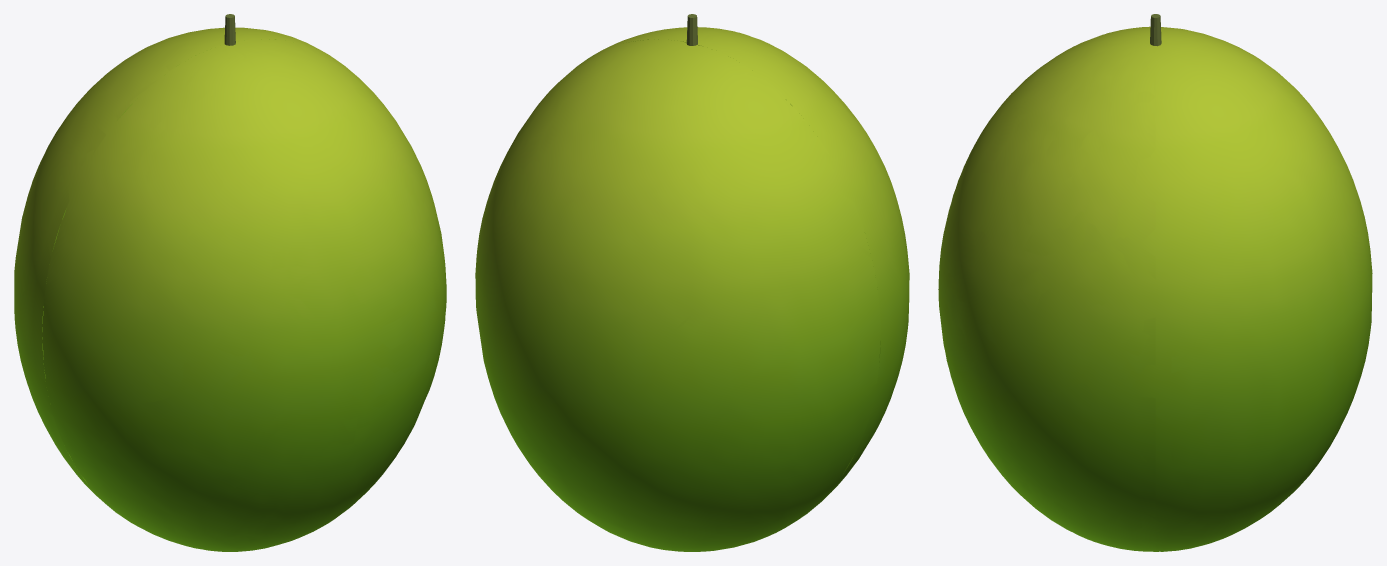
File: raisin-blanc.glb
3 renders of one model, left to right at view 1: azimuth 30°, elevation 25°; view 2: azimuth 150°, elevation 25°; view 3: azimuth 270°, elevation 25°, orthographic.
Visible parts, largest first — view 1: moitie_B_peau, entier_peau, moitie_A_peau; view 2: moitie_A_peau, entier_peau, moitie_B_peau; view 3: entier_peau, moitie_B_peau, moitie_A_peau.
Boxes of the visible parts, bbox=[...] form: moitie_B_peau: bbox=[42, 39, 445, 551]; entier_peau: bbox=[14, 27, 446, 551]; moitie_A_peau: bbox=[14, 28, 325, 502]; moitie_A_peau: bbox=[475, 39, 880, 551]; entier_peau: bbox=[475, 27, 909, 551]; moitie_B_peau: bbox=[592, 27, 909, 503]; entier_peau: bbox=[938, 26, 1372, 551]; moitie_B_peau: bbox=[939, 27, 1155, 551]; moitie_A_peau: bbox=[1155, 27, 1371, 551].
Size of the model in its own units: 1.44 by 1.9 by 1.44.
